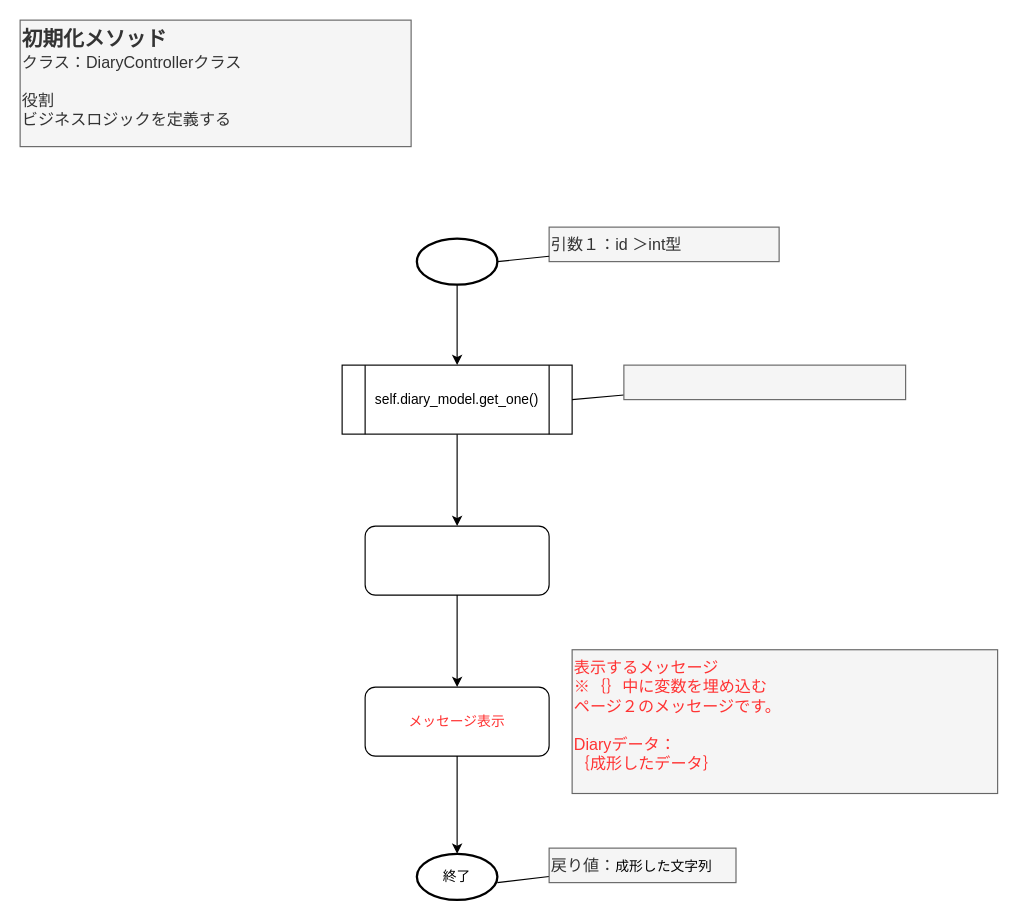
Some shapes in this 1018 by 921 pixel diagram are drawn without their labels. Each missing label, with the centre of its shape:
"取得したデータで 文字列成型" belongs at point 456,560.
"引数１：引数1で 受け取ったid ＞int型" belongs at point 764,382.
"開始" belongs at point 456,261.
